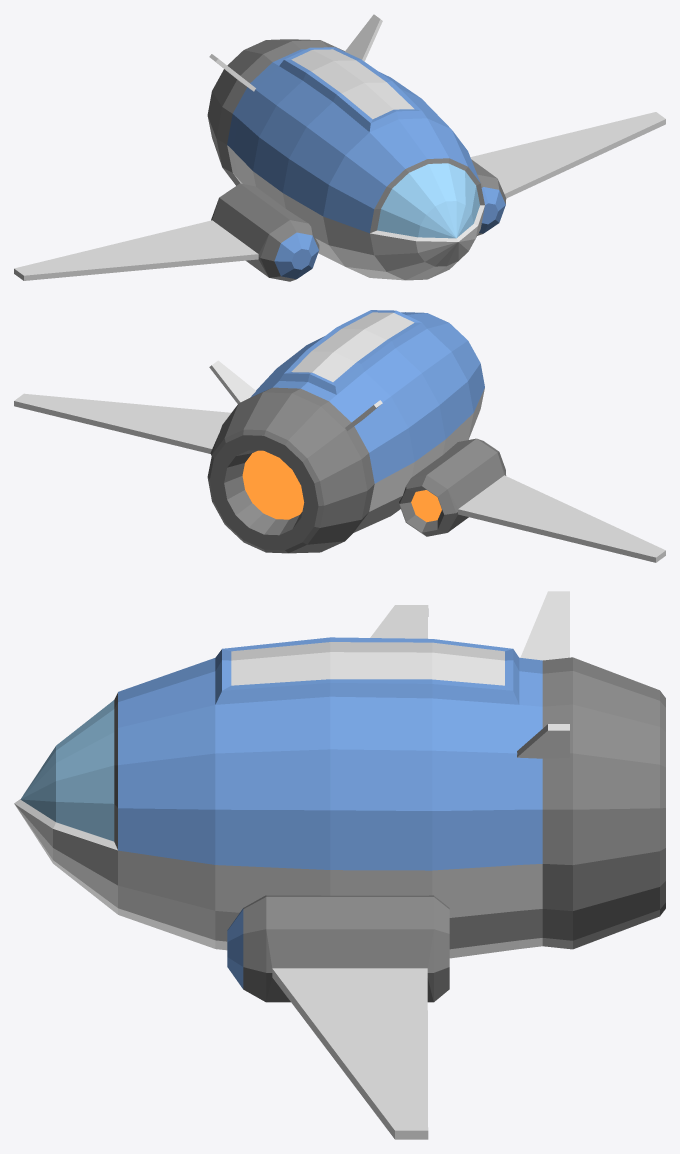
File: ship.fbx
The picture shows the model from 3 angles, top to bottom: view 1: azimuth 30°, elevation 25°; view 2: azimuth 150°, elevation 25°; view 3: azimuth 270°, elevation 25°; orthographic projection. The views are drawn at different scales.
Parts seen in each view (by area): view 1: Low_Poly_Spaceship_002; view 2: Low_Poly_Spaceship_002; view 3: Low_Poly_Spaceship_002.
Boxes of the visible parts, bbox=[...] form: Low_Poly_Spaceship_002: bbox=[14, 14, 665, 281]; Low_Poly_Spaceship_002: bbox=[14, 310, 665, 562]; Low_Poly_Spaceship_002: bbox=[14, 591, 665, 1139].
Bounding box in the file's own units: 1576 × 411 × 826.
